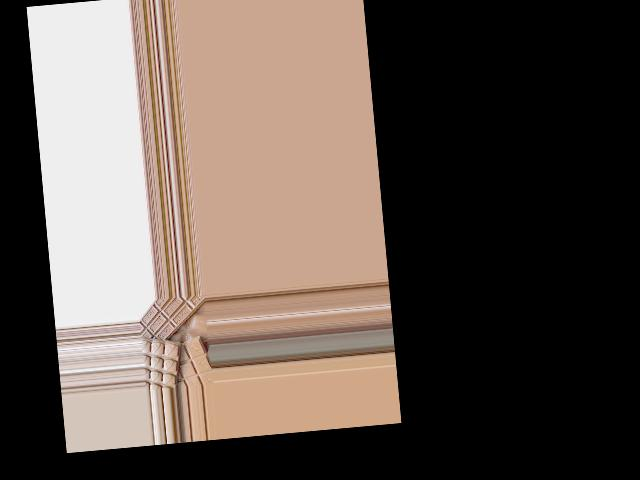chocolate: (165, 335, 209, 388)
